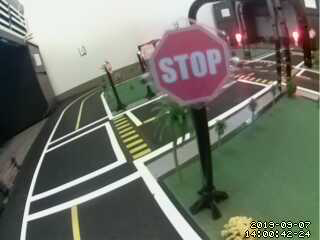Stop_Sign: (143, 23, 242, 114)
